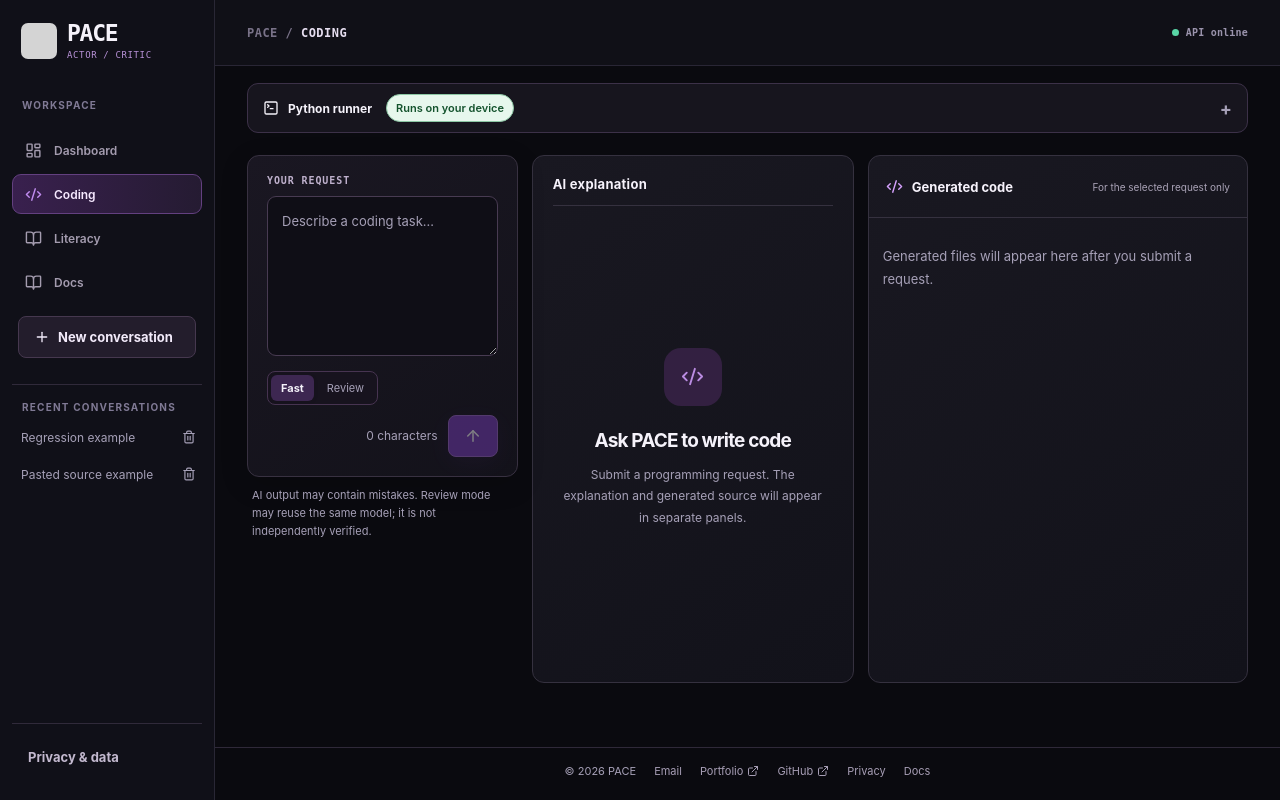
Test: coding view regression › renders one real request and its code, hiding internal retries and false reviews
Click the button "Regression example".
click(93, 438)  # box top-left (12, 419), bottom-right (174, 456)
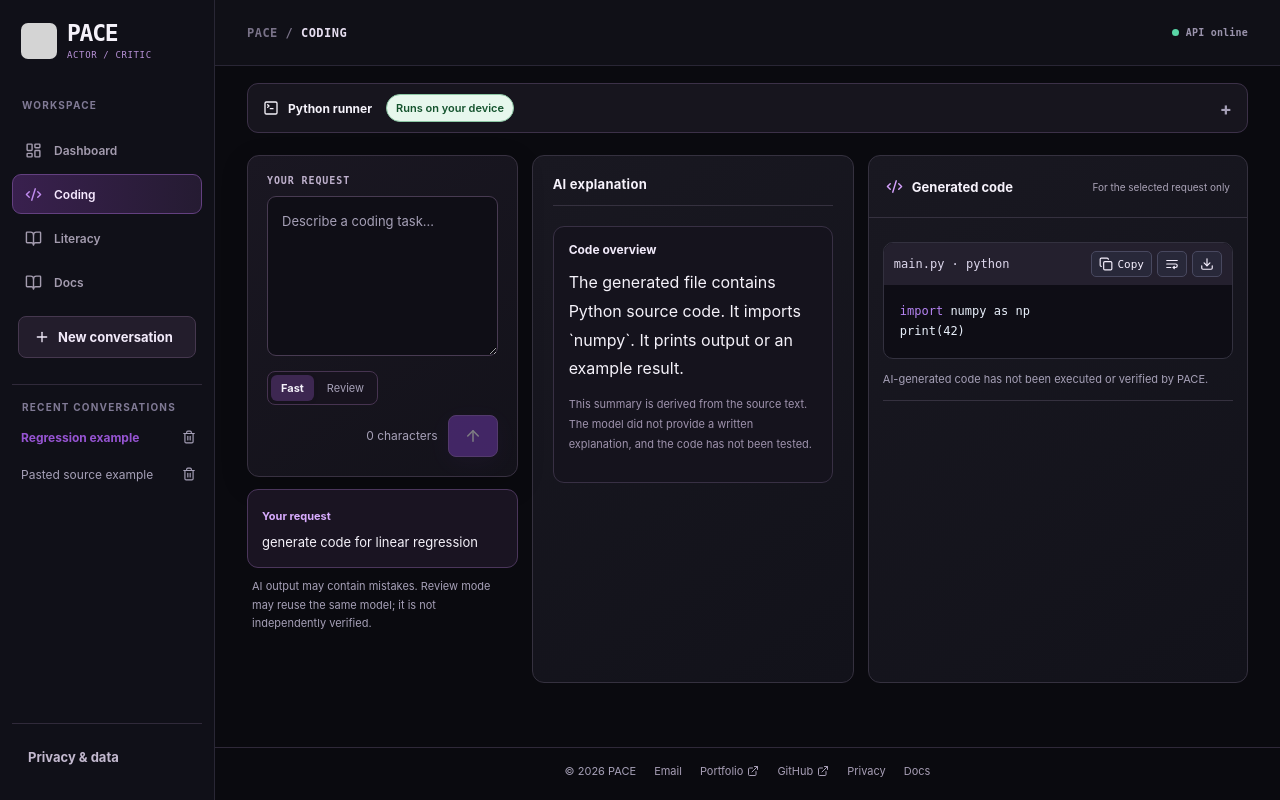
Check: the text "Your request" is shown, box top-left (262, 509), bottom-right (331, 523)
Check: the text "generate code for linear regression" is shown once, box top-left (262, 532), bottom-right (503, 553)
Check: the element named "AI explanation panel" shows "Code overview", box top-left (569, 242), bottom-right (656, 257)
